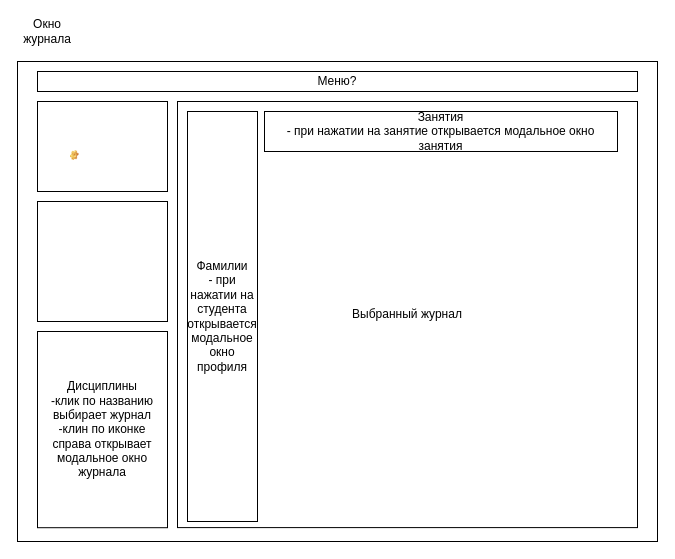
This 675x559 diagram has some shape labels left out. Here are the shapes that lost their labels. From the top down, the centre of each, then its label:
(102,146): Профиль -аватар, имя, группа, настройки (модальное окно), окно админа
(102,261): Группы (только для преподавателей)
